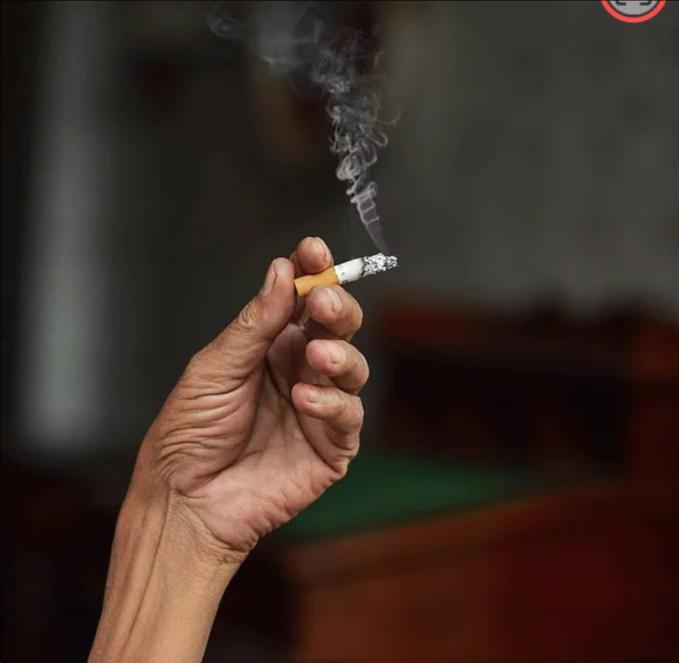Cigarette: (295, 253, 396, 295)
